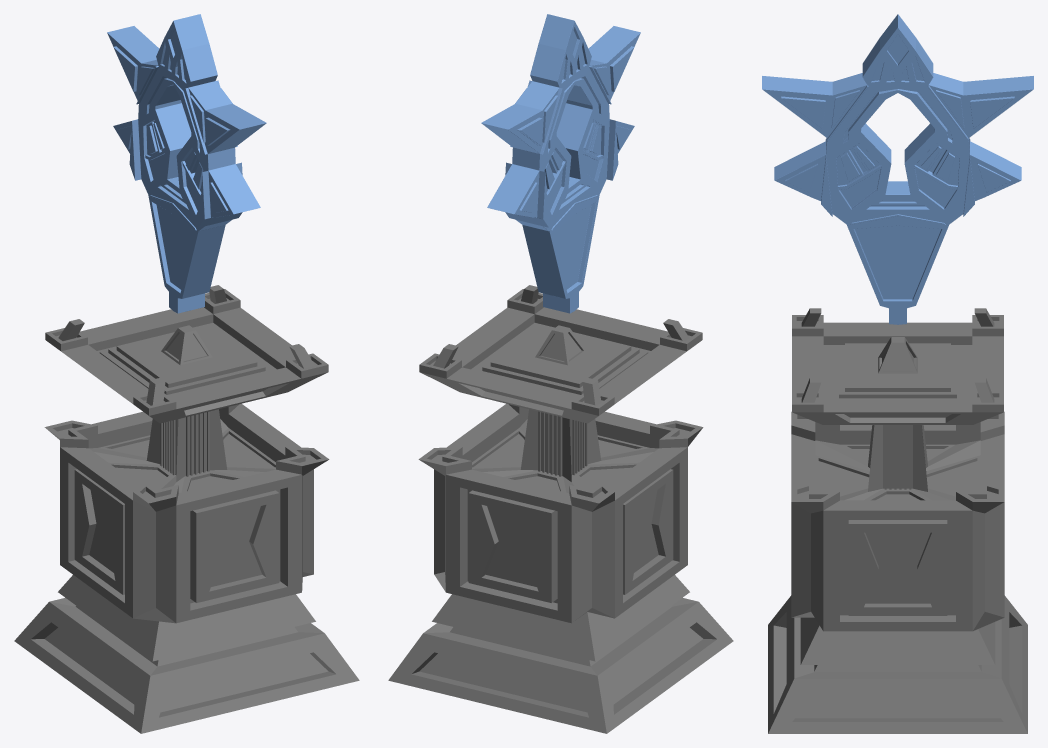
The model's file is flag.fbx.
3 renders of one model, left to right at view 1: azimuth 30°, elevation 25°; view 2: azimuth 150°, elevation 25°; view 3: azimuth 270°, elevation 25°, orthographic. The views are drawn at different scales.
Visible parts, largest first — view 1: stand, flag; view 2: stand, flag; view 3: stand, flag.
Part boxes in pixels (x1,y1,x2,y2): stand: (14, 285, 359, 733); flag: (107, 14, 266, 313); stand: (388, 285, 733, 733); flag: (481, 14, 640, 313); stand: (768, 308, 1027, 733); flag: (762, 14, 1033, 324).
Bounding box in the file's own units: 242 × 680 × 255.
